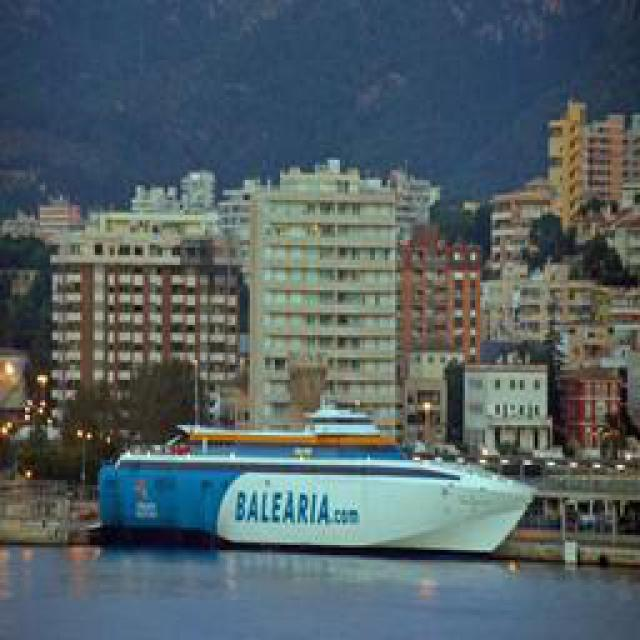Ship: (96, 431, 544, 551)
